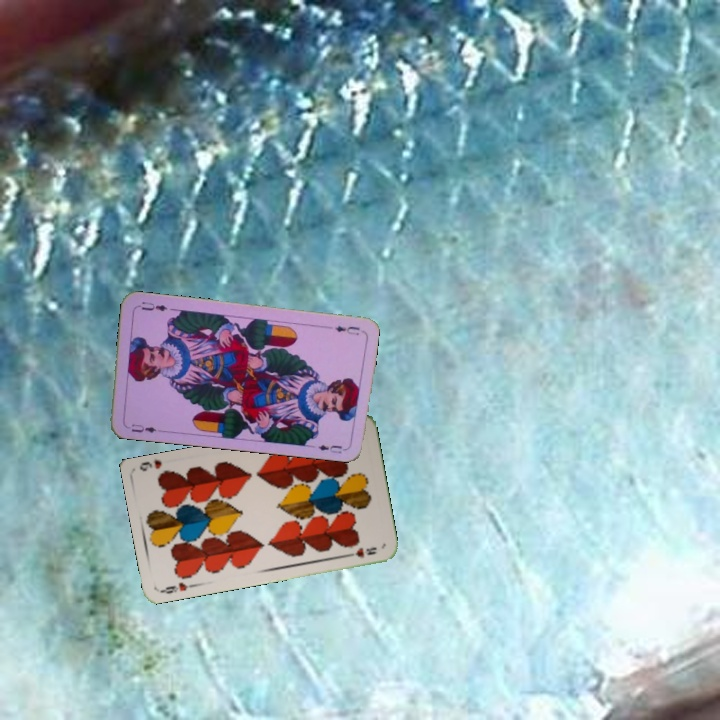EU: (122, 420, 163, 435), (331, 322, 362, 337)
H9: (157, 578, 198, 596)
